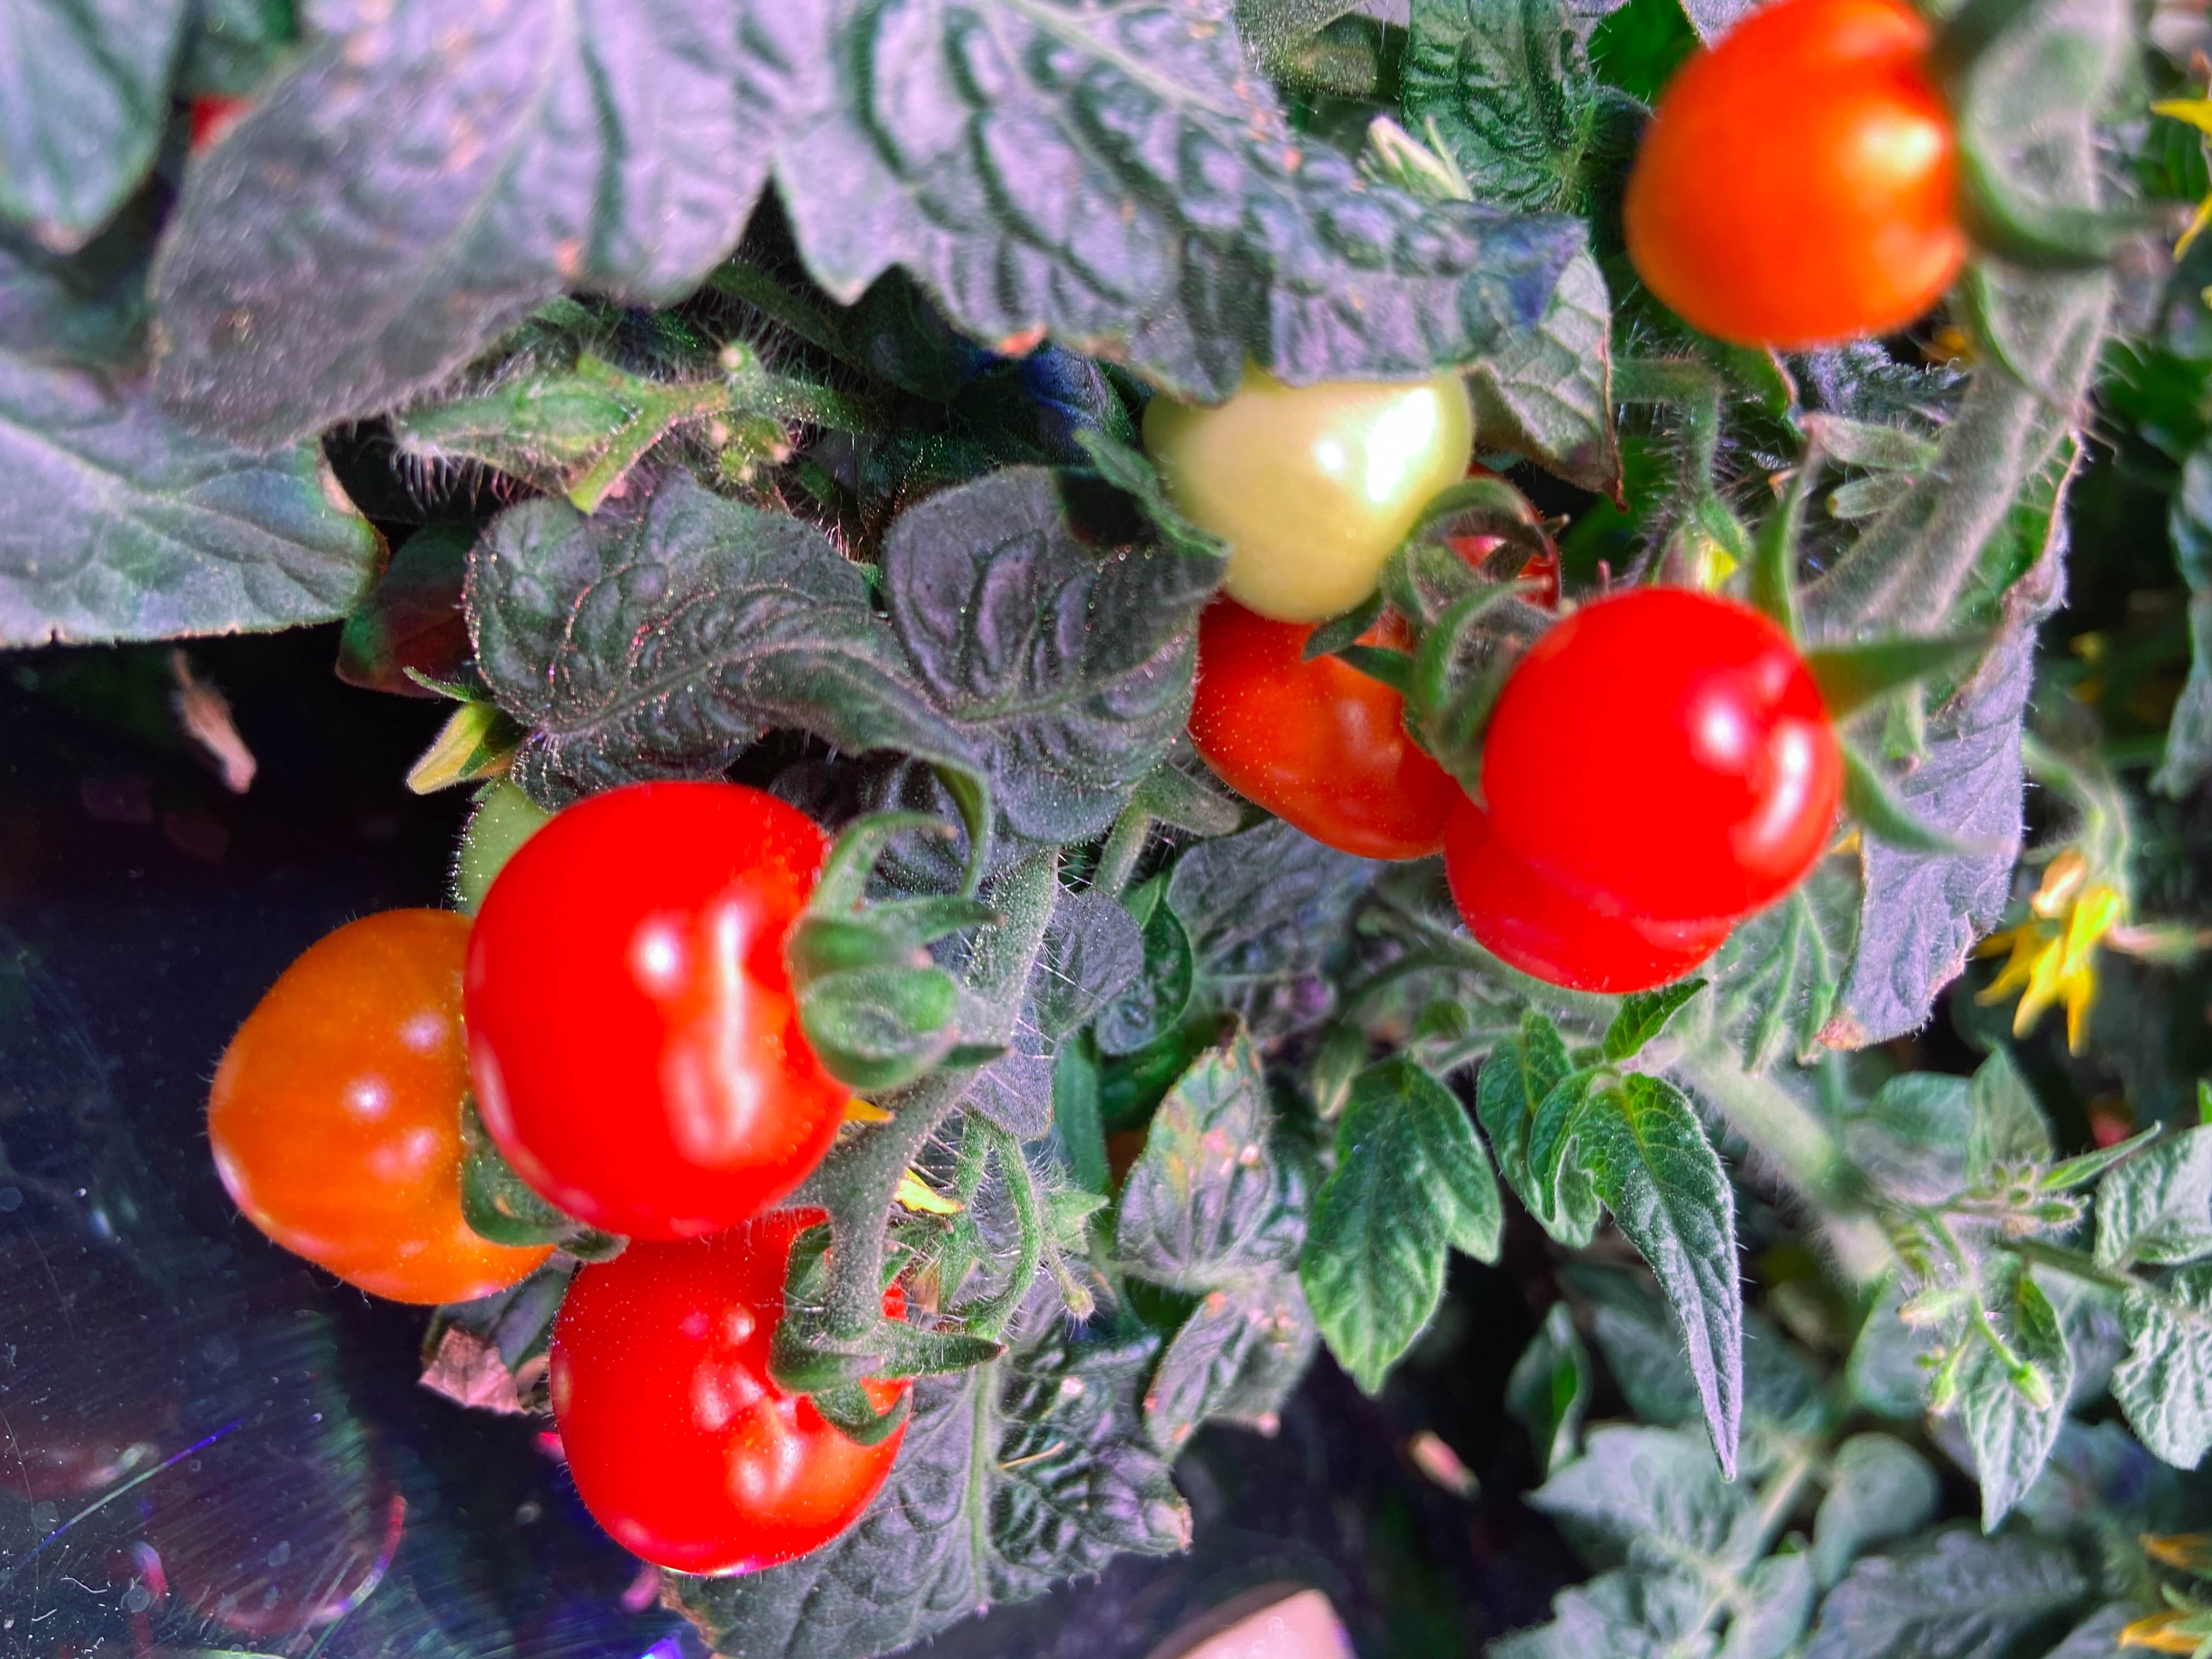green: (1143, 342, 1474, 622)
red: (481, 775, 867, 1236), (204, 903, 556, 1309), (552, 1209, 911, 1574), (1482, 582, 1843, 932), (1622, 0, 1979, 350), (1181, 582, 1498, 852), (1447, 795, 1721, 993), (160, 77, 273, 164)
